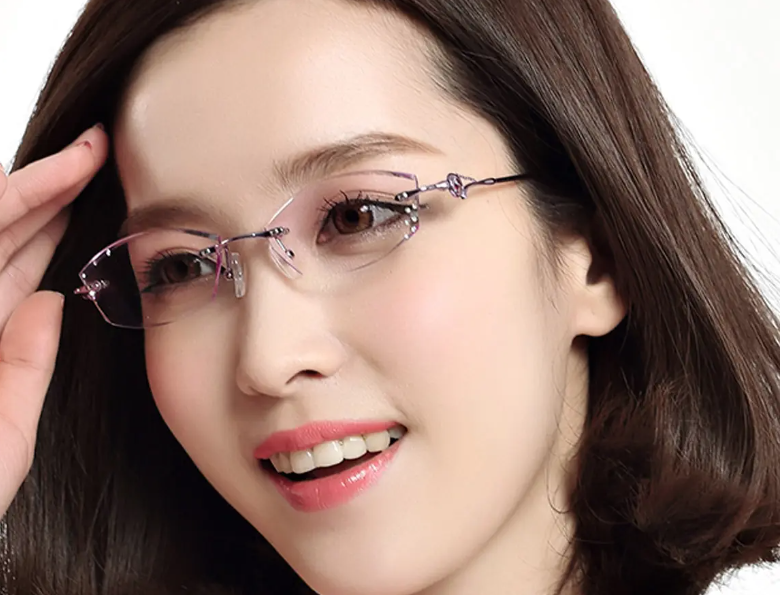glass: (55, 159, 617, 339)
mouth: (210, 401, 470, 535)
